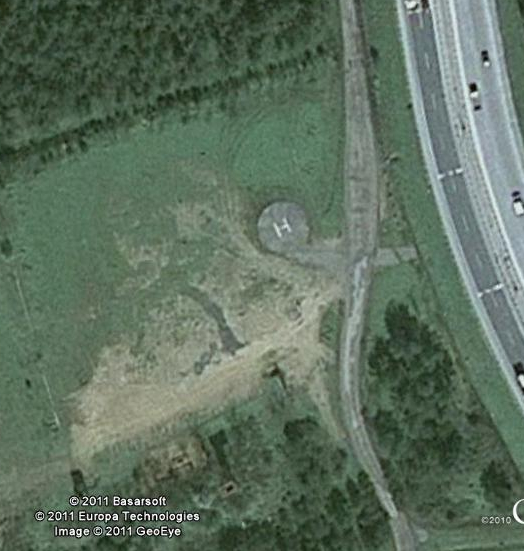heliport: (269, 215, 293, 239)
